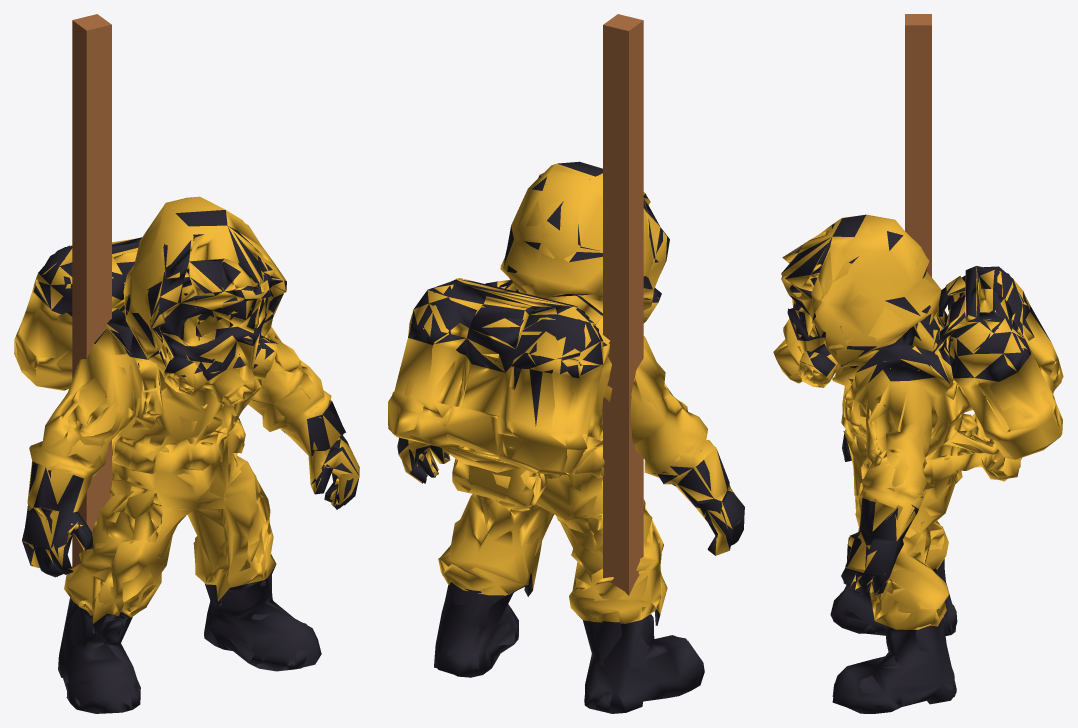
The model's file is prop.l10-hazmat-scarecrow.glb.
The picture shows the model from 3 angles, left to right: view 1: azimuth 30°, elevation 25°; view 2: azimuth 150°, elevation 25°; view 3: azimuth 270°, elevation 25°; orthographic projection. The views are drawn at different scales.
Size of the model in its own units: 1.3 by 2.5 by 1.08.
